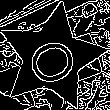O_NE: (19, 27, 84, 88)
